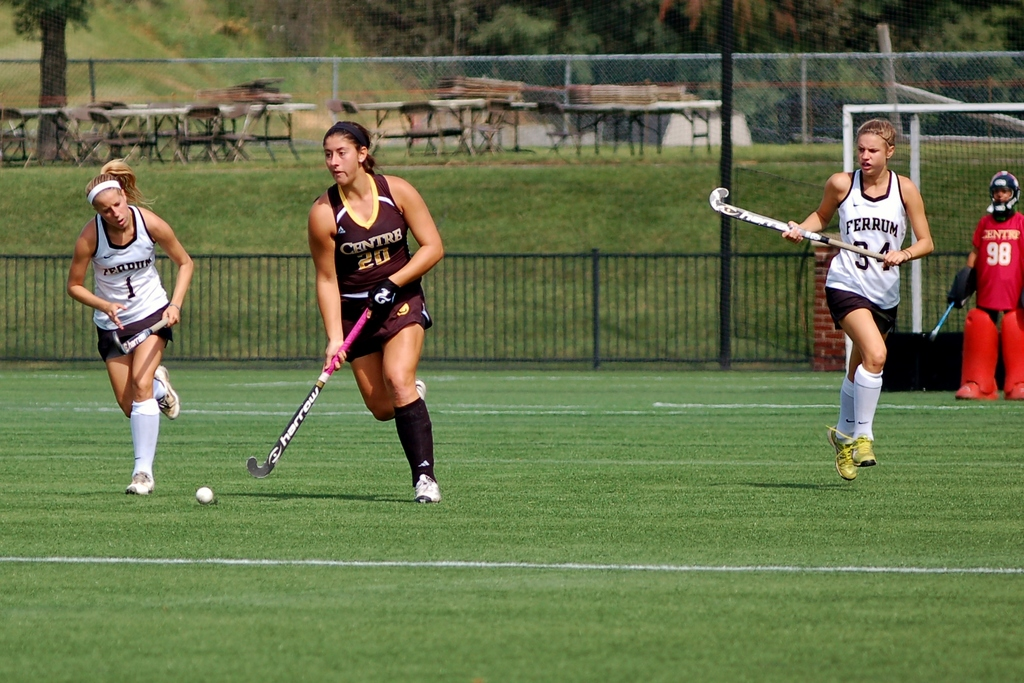Person: (948, 171, 1024, 399)
